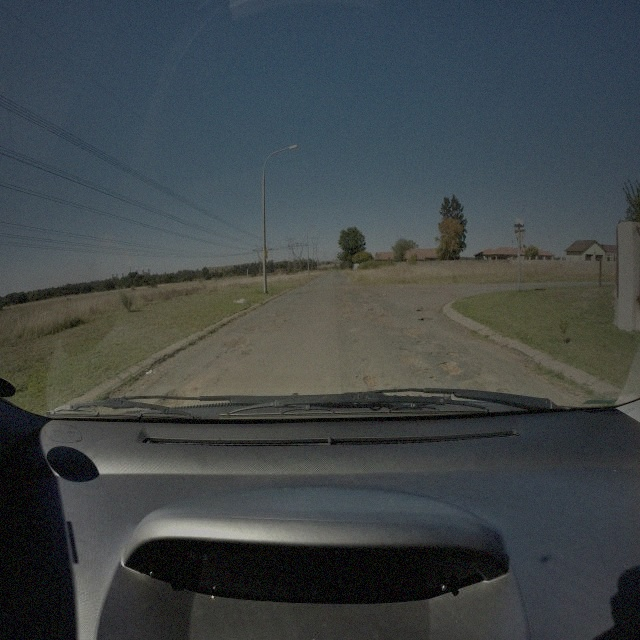pothole: (155, 385, 198, 408), (440, 360, 463, 376), (227, 336, 251, 350), (399, 353, 421, 367), (362, 373, 379, 391), (402, 326, 420, 341), (247, 321, 260, 331), (374, 318, 388, 325), (420, 316, 433, 323), (447, 352, 459, 359), (371, 308, 384, 314), (418, 307, 430, 313), (269, 310, 279, 317), (417, 341, 425, 346), (431, 353, 438, 358)
